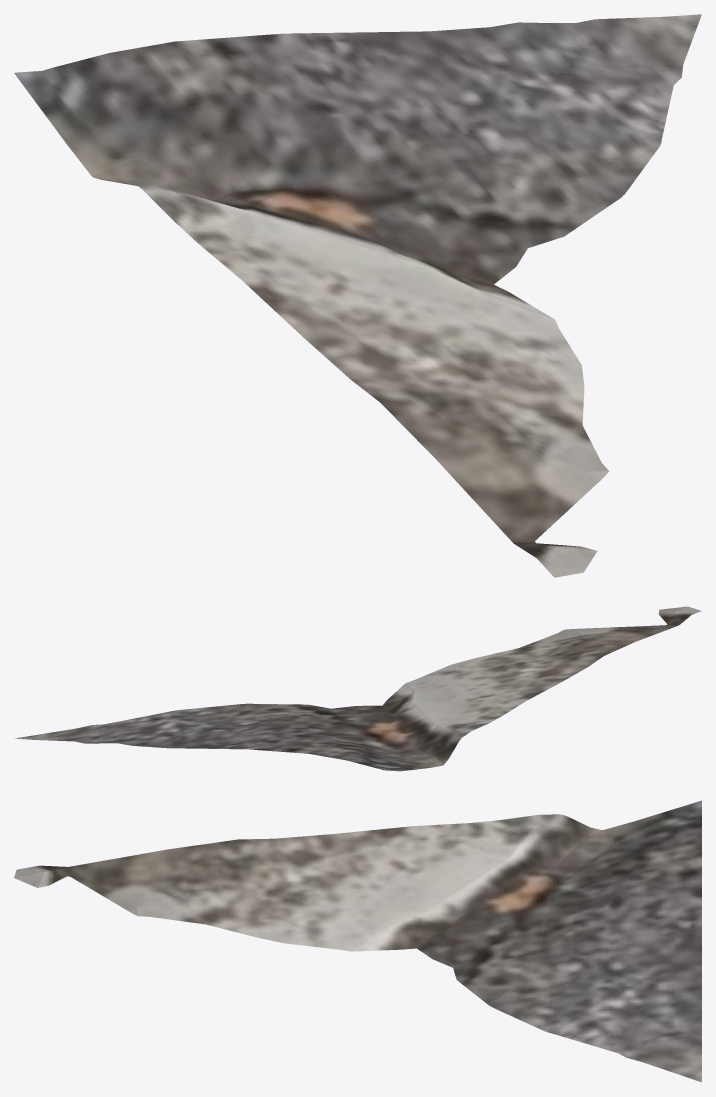
3 renders of one model, top to bottom at view 1: azimuth 30°, elevation 25°; view 2: azimuth 150°, elevation 25°; view 3: azimuth 270°, elevation 25°, orthographic. The views are drawn at different scales.
Size of the model in its own units: 0.394 by 0.0597 by 0.5382.
Materials: 1 (1 with a texture image).
